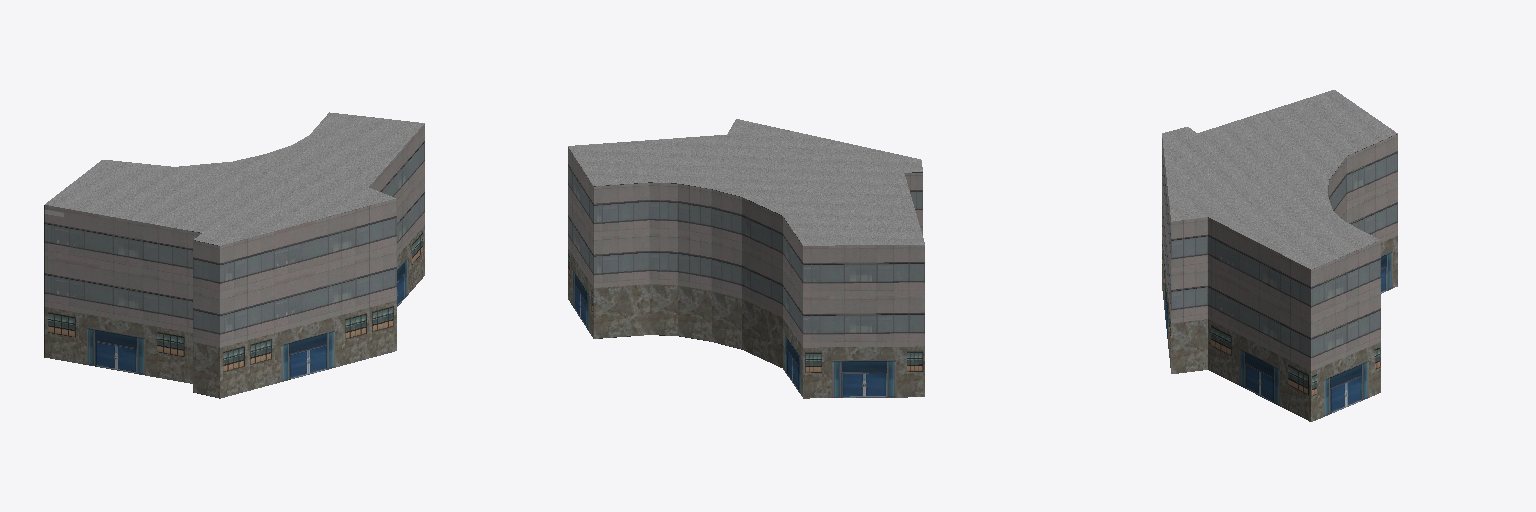
3 views of the same model, side by side, from view 1: azimuth 30°, elevation 25°; view 2: azimuth 150°, elevation 25°; view 3: azimuth 270°, elevation 25° (orthographic).
Parts seen in each view (by area): view 1: BuildingMaster_[number redacted]_0, BuildingMaster_[number redacted]_1; view 2: BuildingMaster_[number redacted]_0, BuildingMaster_[number redacted]_1; view 3: BuildingMaster_[number redacted]_0, BuildingMaster_[number redacted]_1.
Boxes of the visible parts, x1=… form: BuildingMaster_[number redacted]_0: x1=44, y1=124, x2=424, y2=398; BuildingMaster_[number redacted]_1: x1=45, y1=112, x2=424, y2=245; BuildingMaster_[number redacted]_0: x1=568, y1=147, x2=924, y2=398; BuildingMaster_[number redacted]_1: x1=568, y1=119, x2=924, y2=245; BuildingMaster_[number redacted]_0: x1=1162, y1=134, x2=1397, y2=421; BuildingMaster_[number redacted]_1: x1=1162, y1=90, x2=1397, y2=269.
Size of the model in its own units: 26.55 by 10.5 by 14.7.
2 materials, 2 textured.